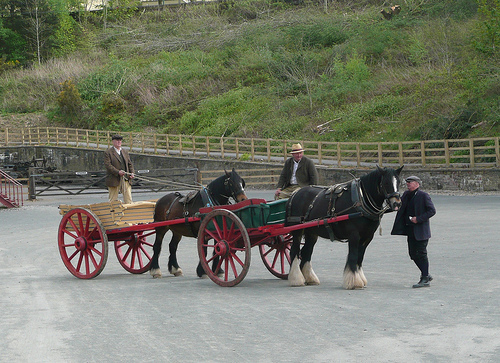horse: (284, 163, 404, 289), (148, 168, 248, 279)
